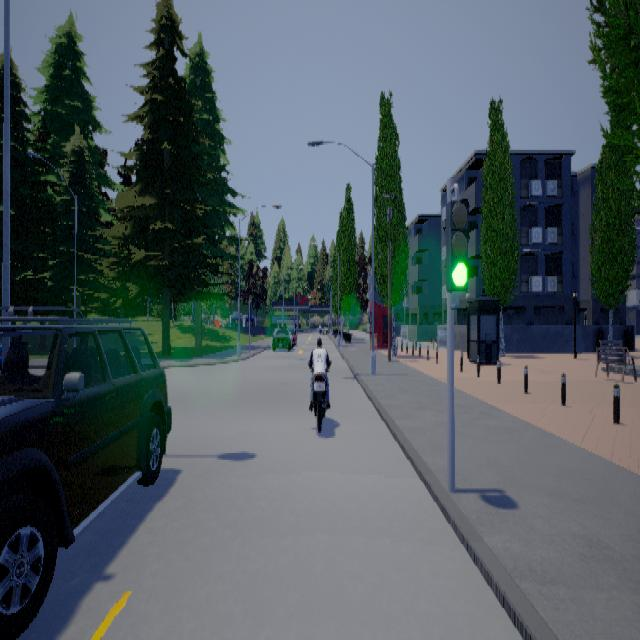green_light: (445, 182, 469, 308)
motobike: (307, 334, 330, 434)
vehicle: (0, 305, 171, 638), (270, 322, 296, 350)
